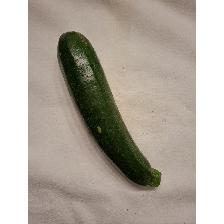Zucchini: (55, 32, 163, 190)
